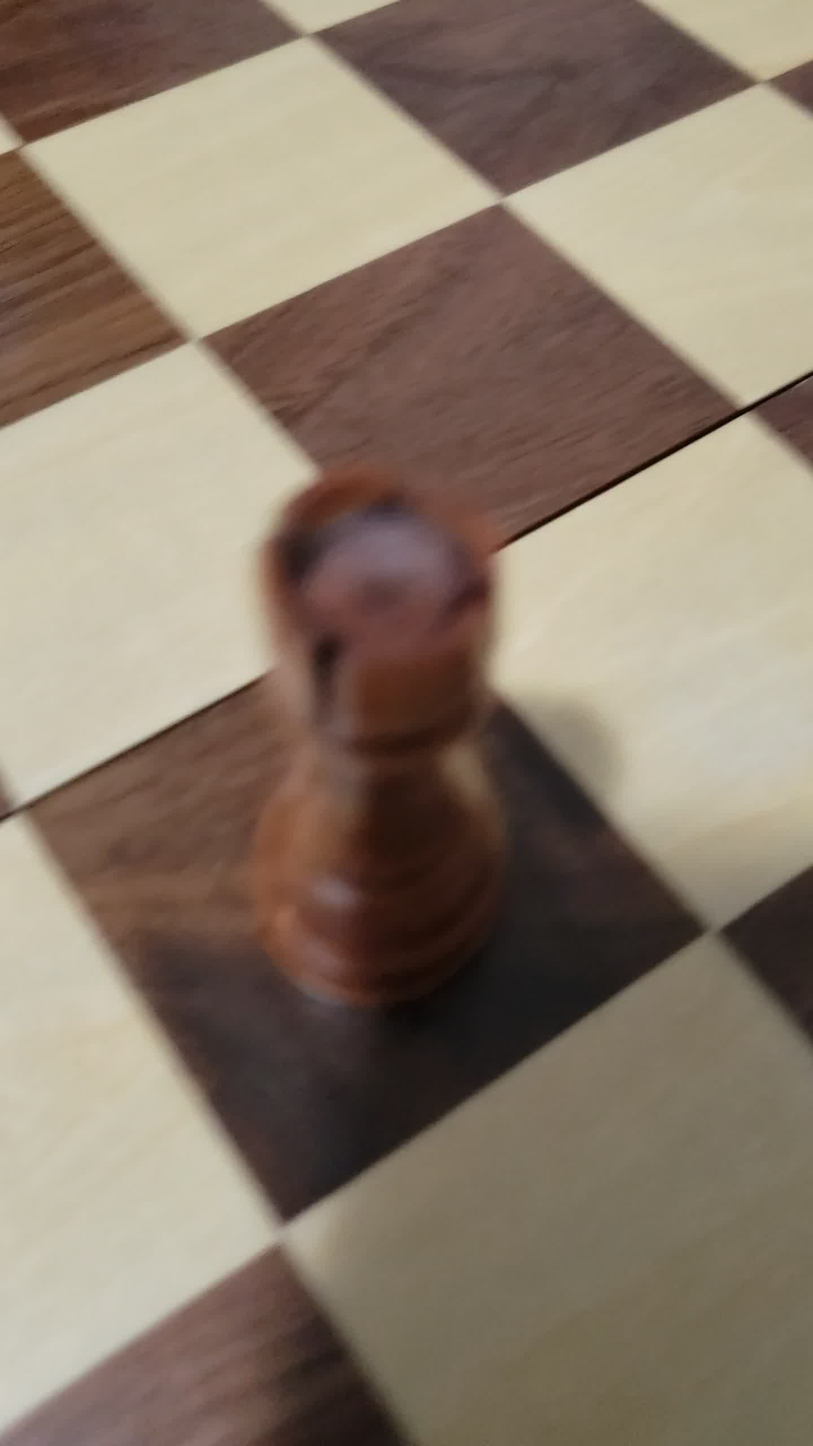black-rook: (215, 441, 543, 1032)
